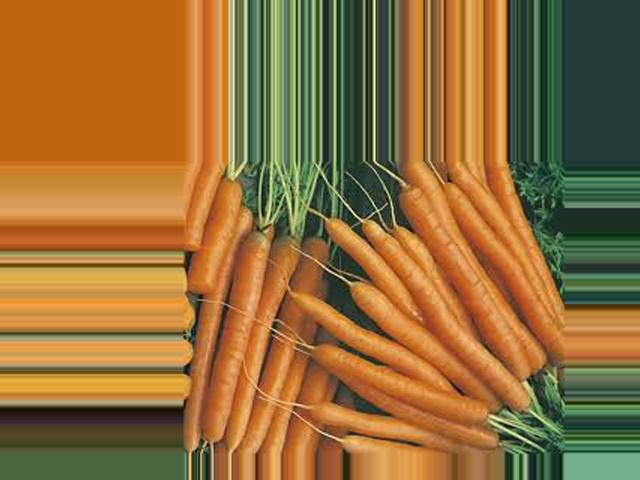carrot: (320, 361, 492, 442)
